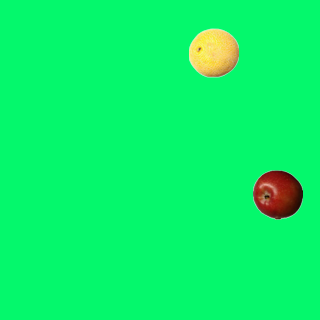Apple Braeburn: (252, 169, 302, 219)
Cantaloupe 1: (188, 27, 238, 77)
